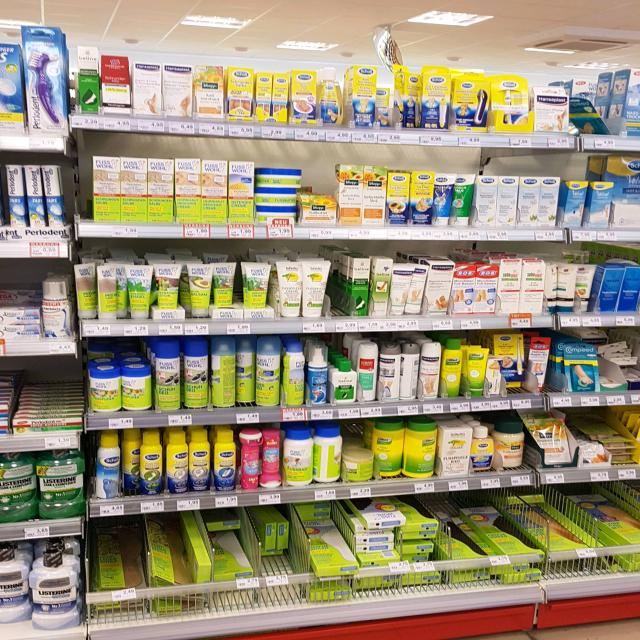unorganised: (351, 505, 437, 561), (72, 260, 126, 320), (544, 263, 596, 314), (256, 338, 284, 408), (312, 424, 343, 485), (211, 335, 236, 409), (569, 96, 610, 137), (282, 341, 307, 408), (374, 422, 404, 477), (496, 335, 527, 388), (235, 338, 259, 405), (378, 343, 402, 402), (213, 262, 239, 311), (121, 430, 140, 496), (400, 342, 420, 401), (530, 335, 549, 390), (375, 85, 397, 127), (203, 514, 239, 539), (410, 262, 427, 314), (241, 427, 263, 449)
